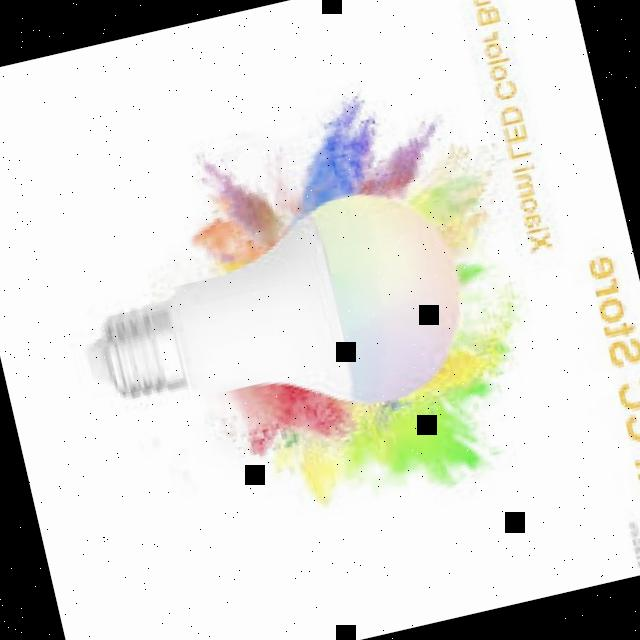light_bulb: (58, 169, 492, 473)
